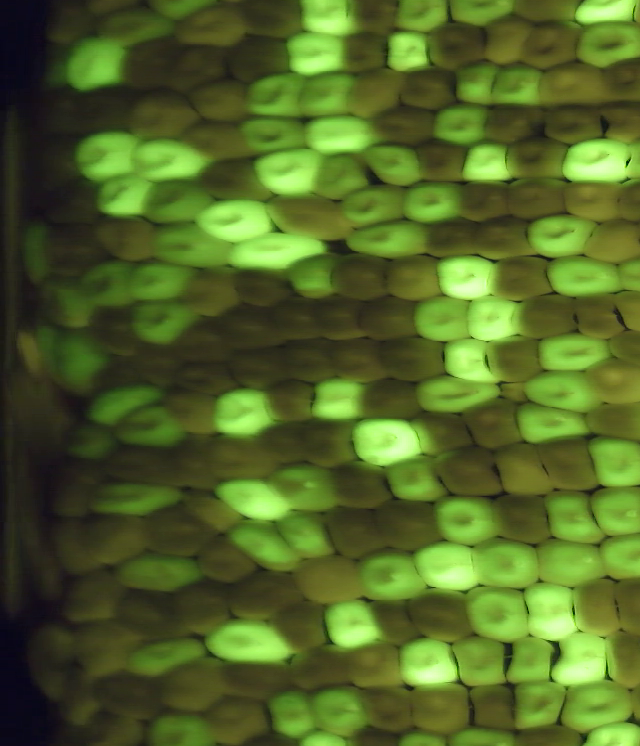fluorescent: (198, 610, 302, 669), (555, 672, 639, 738), (459, 580, 538, 649), (220, 515, 305, 577), (348, 543, 432, 605), (223, 232, 333, 279), (108, 545, 212, 594), (48, 322, 109, 405), (261, 460, 348, 518), (537, 485, 613, 550), (123, 632, 215, 685), (346, 413, 430, 471), (147, 218, 238, 271), (518, 366, 609, 419), (247, 142, 327, 202), (531, 534, 612, 593), (68, 126, 147, 186), (83, 378, 174, 430), (468, 534, 545, 595), (378, 452, 458, 510), (209, 475, 298, 527), (428, 491, 505, 551), (126, 135, 218, 185), (82, 478, 191, 520), (411, 371, 508, 418), (541, 252, 630, 303), (511, 395, 595, 449), (272, 505, 348, 564), (61, 32, 131, 96), (190, 195, 279, 245), (429, 250, 507, 307), (409, 537, 487, 594), (519, 210, 604, 262), (123, 255, 204, 309), (549, 629, 615, 695), (128, 295, 207, 350), (392, 633, 465, 692), (341, 216, 434, 262), (531, 329, 622, 376), (235, 68, 310, 125), (111, 401, 193, 453), (522, 579, 587, 644), (208, 385, 283, 441), (138, 179, 223, 228), (302, 110, 385, 160), (91, 4, 180, 50), (447, 629, 514, 690), (32, 274, 101, 333), (570, 15, 640, 73), (558, 134, 633, 188), (303, 680, 376, 735), (408, 290, 477, 346), (426, 97, 493, 154), (319, 595, 387, 651), (397, 176, 470, 228), (280, 250, 350, 304), (75, 254, 139, 313), (439, 333, 507, 388), (258, 687, 321, 745), (338, 181, 411, 231), (232, 113, 313, 158), (282, 28, 353, 79), (310, 147, 373, 204), (508, 679, 573, 734), (360, 139, 428, 191), (583, 430, 640, 492), (88, 172, 158, 222), (499, 632, 559, 690), (304, 373, 373, 423), (294, 67, 357, 120), (586, 480, 640, 541), (484, 59, 548, 110), (463, 293, 524, 345), (458, 136, 518, 187), (27, 320, 68, 394), (137, 709, 219, 746), (292, 1, 369, 39), (451, 56, 502, 112), (18, 218, 57, 290), (381, 28, 436, 79), (593, 527, 640, 583), (30, 40, 74, 96), (390, 1, 455, 35), (442, 1, 518, 29), (568, 1, 640, 30), (573, 717, 640, 746), (443, 723, 519, 746), (390, 723, 458, 746)
nonfluorescent: (261, 190, 363, 245), (223, 564, 308, 624), (135, 504, 223, 561), (155, 655, 233, 719), (68, 618, 148, 680), (73, 510, 155, 570), (368, 495, 446, 558), (118, 24, 184, 97), (159, 40, 235, 103), (163, 576, 237, 640), (55, 568, 138, 625), (430, 442, 507, 501), (289, 553, 373, 607), (319, 502, 393, 563), (87, 668, 170, 722), (489, 438, 559, 502), (203, 431, 285, 485), (403, 586, 478, 645), (198, 690, 277, 746), (532, 433, 602, 496), (513, 15, 586, 75), (126, 89, 207, 143), (323, 456, 398, 514), (503, 290, 585, 343), (221, 27, 293, 87), (18, 136, 88, 197), (215, 655, 302, 704), (80, 304, 153, 362), (193, 157, 278, 206), (174, 486, 254, 538), (533, 58, 610, 112), (482, 251, 559, 305), (373, 332, 449, 386), (407, 680, 475, 740), (39, 221, 108, 280), (69, 82, 141, 138), (338, 638, 410, 694), (176, 115, 261, 162), (143, 446, 224, 495), (46, 516, 107, 581), (458, 397, 527, 454), (487, 492, 557, 548), (284, 639, 357, 692), (263, 599, 333, 654), (88, 213, 160, 266), (225, 343, 298, 395), (421, 20, 490, 75), (478, 332, 549, 385), (378, 252, 448, 305), (175, 267, 242, 322), (21, 383, 80, 445), (469, 214, 542, 264), (405, 407, 478, 457), (567, 576, 624, 640), (192, 535, 264, 585), (343, 64, 405, 122), (27, 84, 89, 142), (328, 249, 393, 304), (118, 585, 183, 640), (297, 417, 363, 471), (352, 375, 426, 423), (324, 336, 391, 389), (218, 300, 286, 352), (352, 292, 424, 341), (185, 78, 255, 128), (305, 292, 372, 344), (155, 388, 222, 440), (353, 683, 420, 735), (568, 287, 628, 345), (127, 338, 189, 394), (368, 101, 439, 149), (227, 265, 301, 311), (558, 177, 626, 227), (273, 338, 342, 387), (575, 216, 640, 268), (169, 6, 249, 48), (500, 135, 571, 182), (413, 134, 473, 189), (364, 596, 425, 650), (538, 100, 609, 146), (502, 176, 573, 222), (419, 214, 483, 264), (172, 318, 237, 367), (169, 360, 248, 400), (465, 681, 523, 735), (98, 445, 175, 485), (41, 176, 103, 225), (28, 616, 84, 670), (478, 14, 535, 67), (268, 294, 327, 345), (581, 355, 640, 406), (480, 103, 545, 149), (39, 5, 101, 53), (397, 66, 459, 113), (238, 1, 309, 42), (580, 398, 640, 445), (262, 377, 318, 426), (73, 710, 148, 746), (256, 421, 313, 468), (457, 178, 515, 224), (43, 473, 101, 519), (87, 354, 152, 395), (340, 30, 393, 77), (593, 55, 640, 106), (604, 627, 640, 691), (609, 574, 640, 642), (48, 453, 112, 485), (348, 1, 400, 40), (504, 1, 583, 25), (508, 723, 587, 746), (601, 101, 640, 145), (603, 327, 640, 373), (608, 286, 640, 335), (492, 377, 532, 407)
